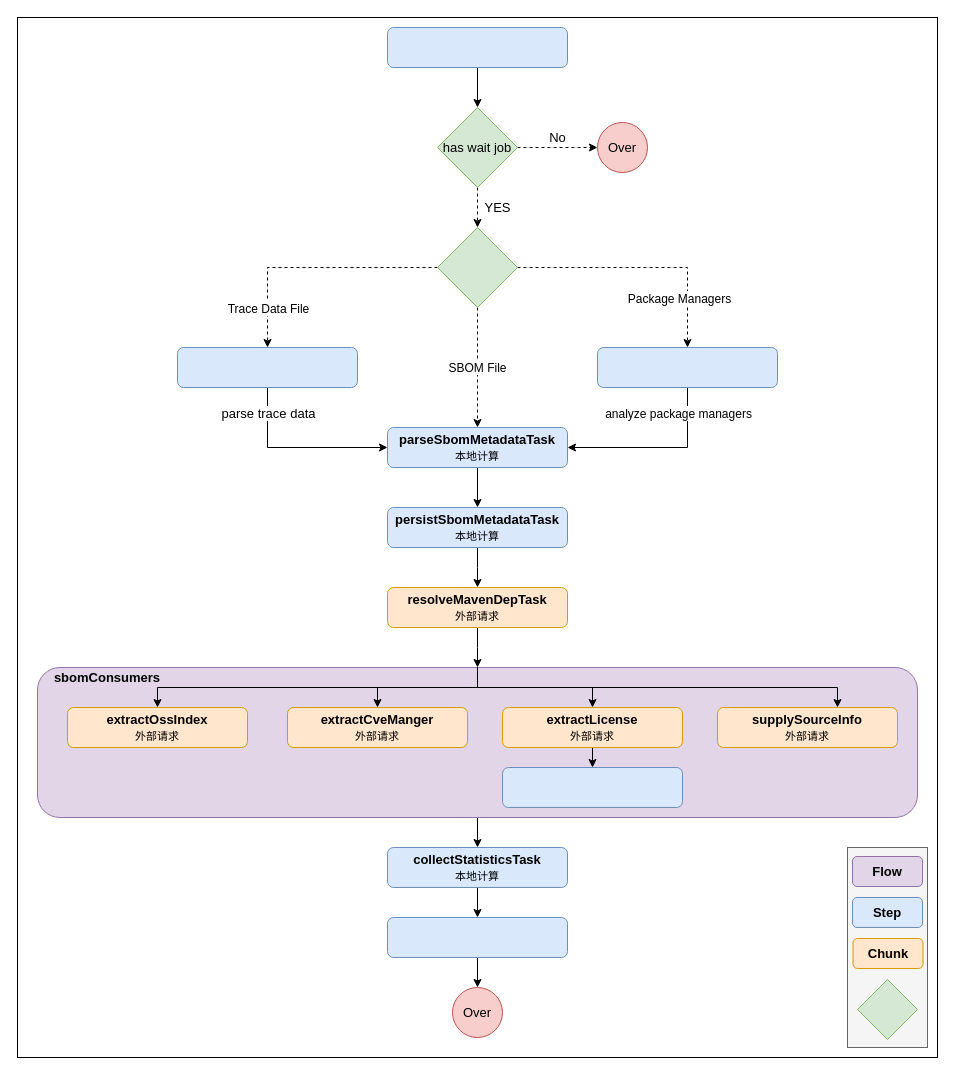
Image size: 955x1075. Some labels were removed from this diagram. Here are the shapes that lost their labels. From the top down, the centre of each, then its label:
point 477,47: selectWaitRawSbomTask 本地计算
point 477,267: skipAnalyzeSbomContentDecider
point 267,367: AnalyzeTraceDataTask 本地计算
point 687,367: AnalyzeDefinitionFileTask 本地计算
point 592,787: fillUpLicense 本地计算
point 477,937: readSbomEndTask 本地计算
point 887,1009: Decider
